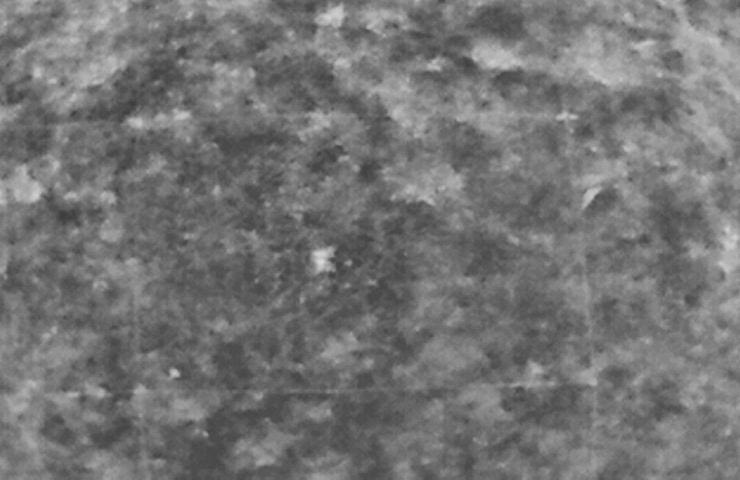landmines: (309, 247, 339, 277)
